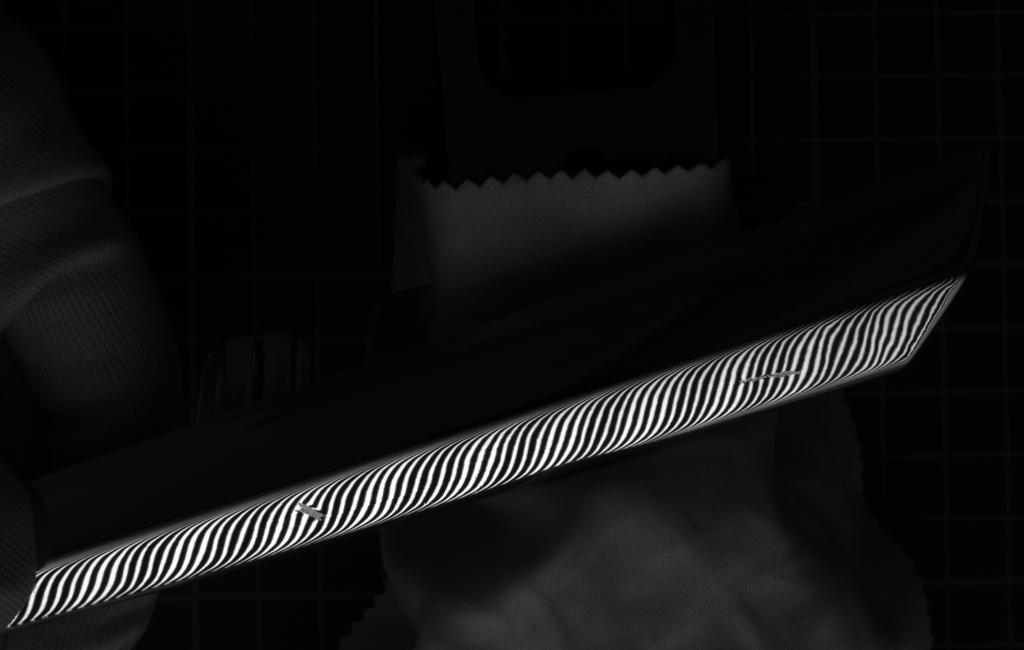Scratch: (722, 363, 806, 393), (290, 495, 342, 530)
